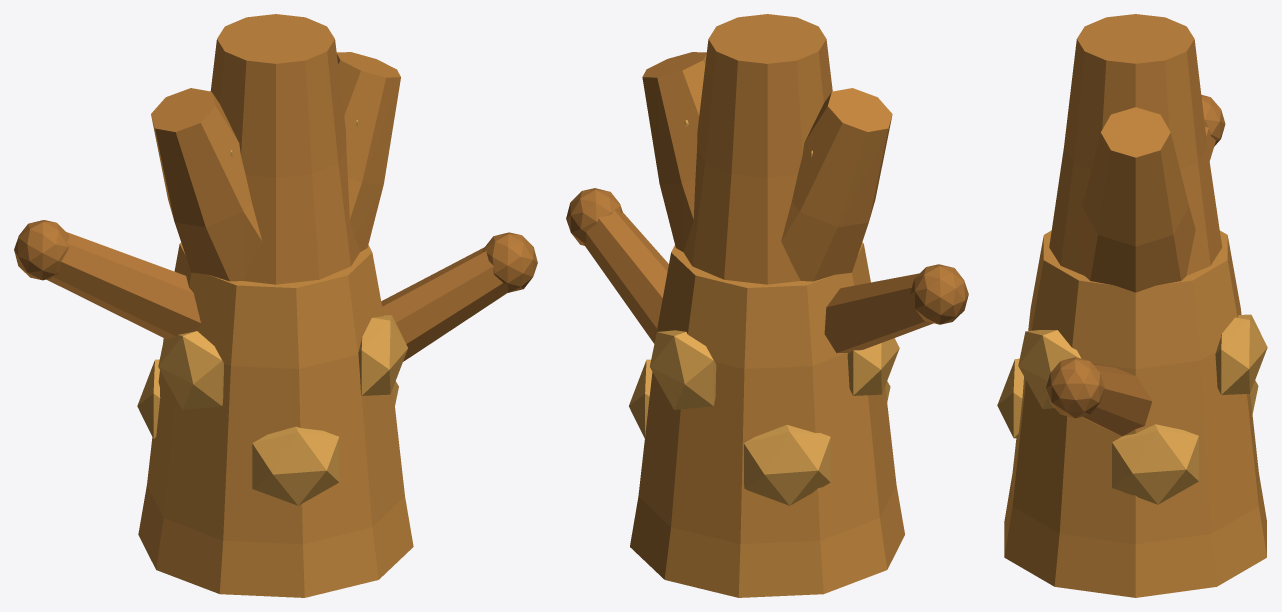
Rendered from MapleTrunk.glb.
The picture shows the model from 3 angles, left to right: view 1: azimuth 30°, elevation 25°; view 2: azimuth 150°, elevation 25°; view 3: azimuth 270°, elevation 25°; orthographic projection.
Visible parts, largest first — view 1: MapleTrunk_MapleBark, MapleTrunk_MapleLimbs, MapleTrunk_MapleStubs, MapleTrunk_MaplePlates; view 2: MapleTrunk_MapleBark, MapleTrunk_MapleLimbs, MapleTrunk_MapleStubs, MapleTrunk_MaplePlates; view 3: MapleTrunk_MapleBark, MapleTrunk_MapleLimbs, MapleTrunk_MaplePlates, MapleTrunk_MapleStubs.
Boxes of the visible parts, box(x1,y1,x2,y2) form: MapleTrunk_MapleBark: box(138, 242, 413, 597); MapleTrunk_MapleLimbs: box(151, 14, 400, 284); MapleTrunk_MapleStubs: box(14, 220, 537, 361); MapleTrunk_MaplePlates: box(137, 120, 407, 505); MapleTrunk_MapleBark: box(630, 242, 904, 597); MapleTrunk_MapleLimbs: box(642, 14, 892, 284); MapleTrunk_MapleStubs: box(566, 188, 968, 353); MapleTrunk_MaplePlates: box(629, 120, 899, 505); MapleTrunk_MapleBark: box(1004, 230, 1266, 597); MapleTrunk_MapleLimbs: box(1049, 14, 1222, 292); MapleTrunk_MaplePlates: box(997, 314, 1267, 504); MapleTrunk_MapleStubs: box(1046, 95, 1225, 436).
Size of the model in its own units: 2.85 by 3 by 1.47.
